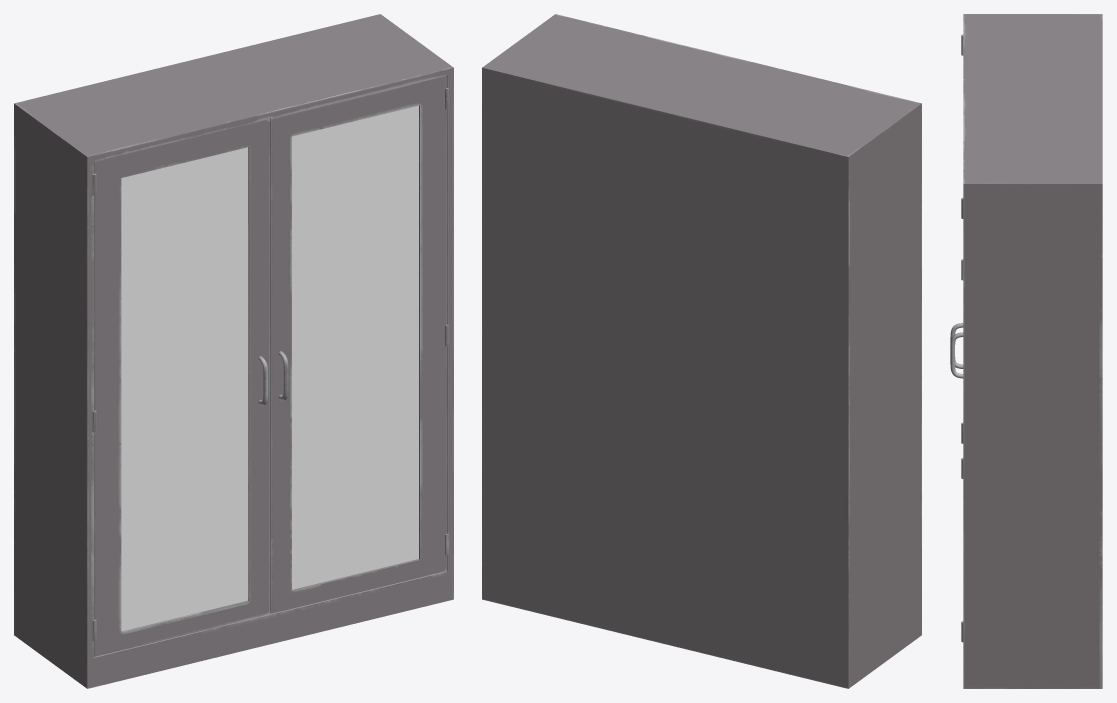
The model's file is Cabinet.fbx.
3 views of the same model, side by side, from view 1: azimuth 30°, elevation 25°; view 2: azimuth 150°, elevation 25°; view 3: azimuth 270°, elevation 25° (orthographic). The views are drawn at different scales.
Visible parts, largest first — view 1: SM_CabinetDoor01, SM_CabinetDoor02, SM_CabinetBody; view 2: SM_CabinetBody; view 3: SM_CabinetBody, SM_CabinetDoor01.
Boxes of the visible parts, x1=… form: SM_CabinetDoor01: x1=270, y1=75, x2=446, y2=613; SM_CabinetDoor02: x1=94, y1=118, x2=270, y2=656; SM_CabinetBody: x1=14, y1=14, x2=453, y2=688; SM_CabinetBody: x1=482, y1=14, x2=921, y2=688; SM_CabinetBody: x1=961, y1=14, x2=1102, y2=688; SM_CabinetDoor01: x1=950, y1=332, x2=963, y2=378.
Bounding box in the file's own units: 130 × 180 × 49.1.
Materials: 2 (1 with a texture image).
